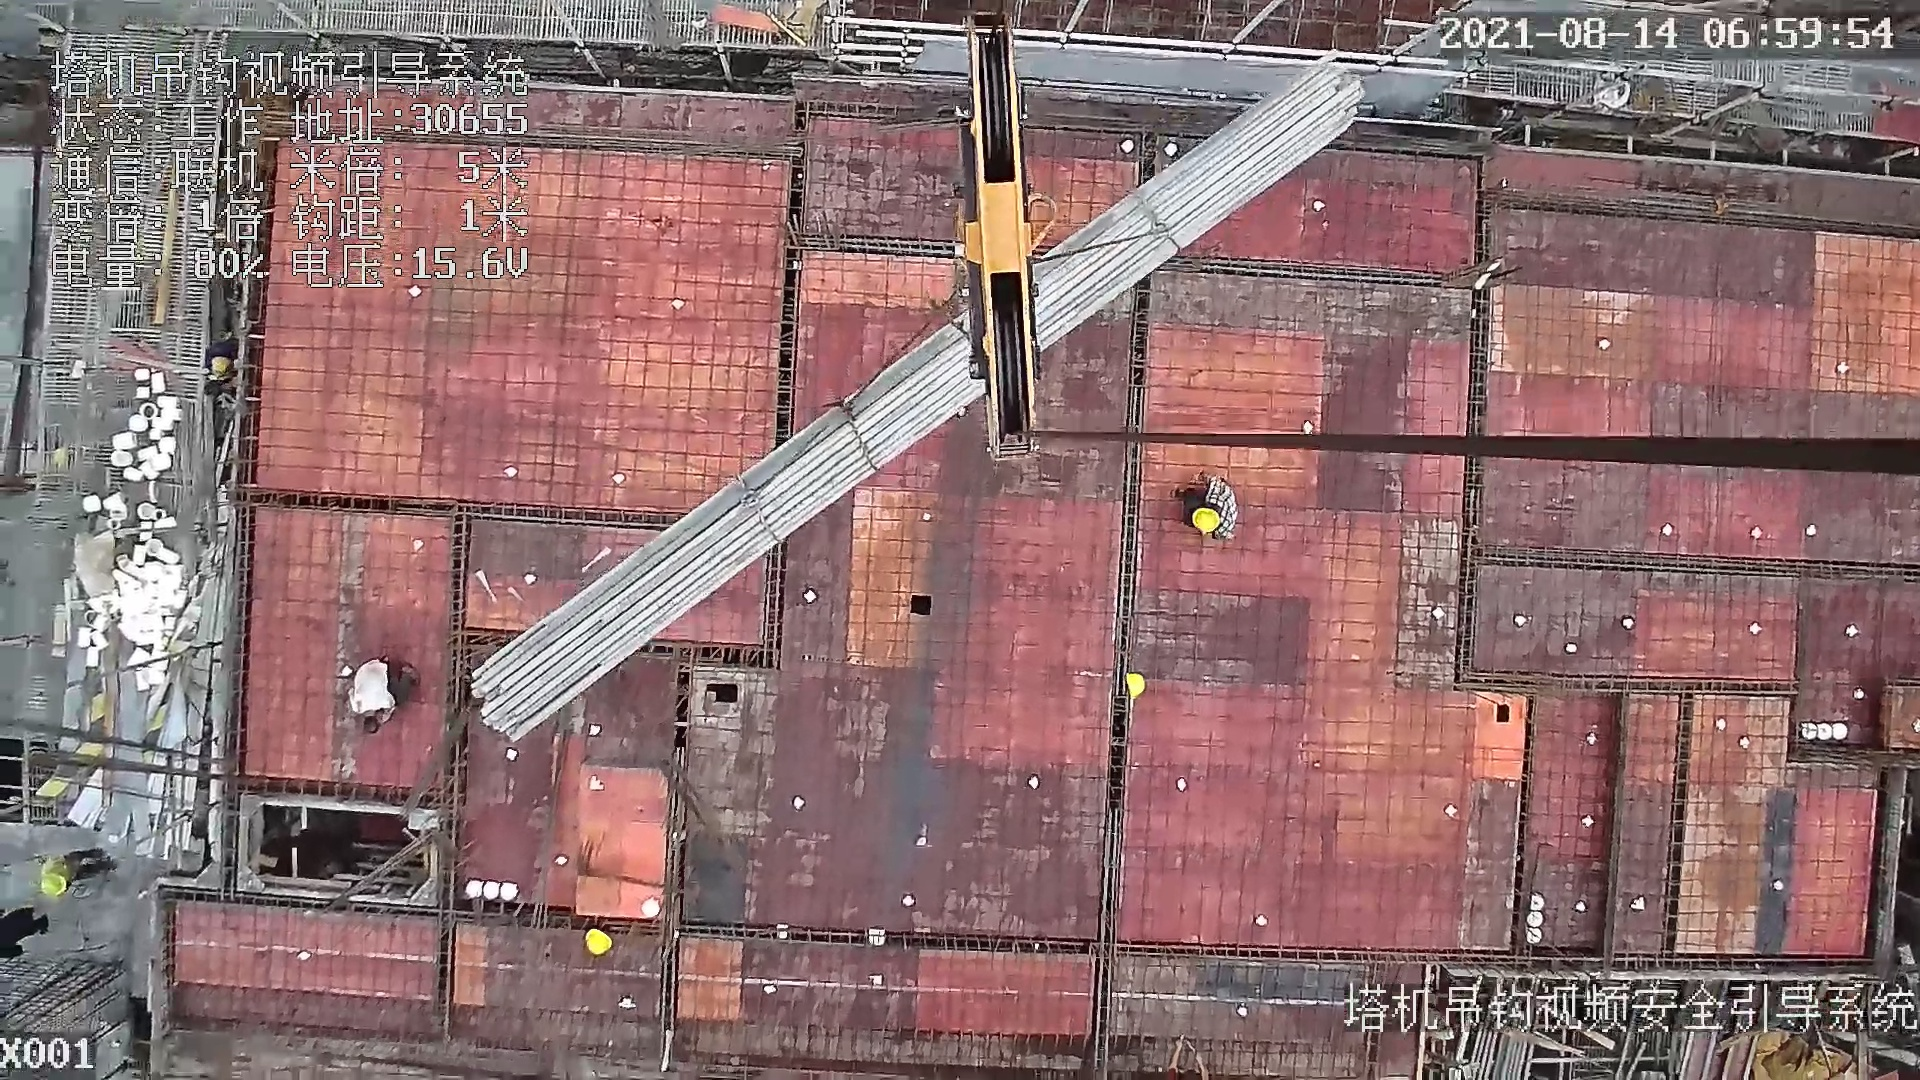helmet: (584, 928, 612, 955), (1192, 508, 1220, 533), (39, 874, 67, 895), (1125, 672, 1145, 696)
hook: (938, 5, 1050, 462)
person: (335, 658, 419, 736), (1176, 472, 1238, 544), (42, 849, 116, 897)
rebar: (470, 56, 1365, 737)
